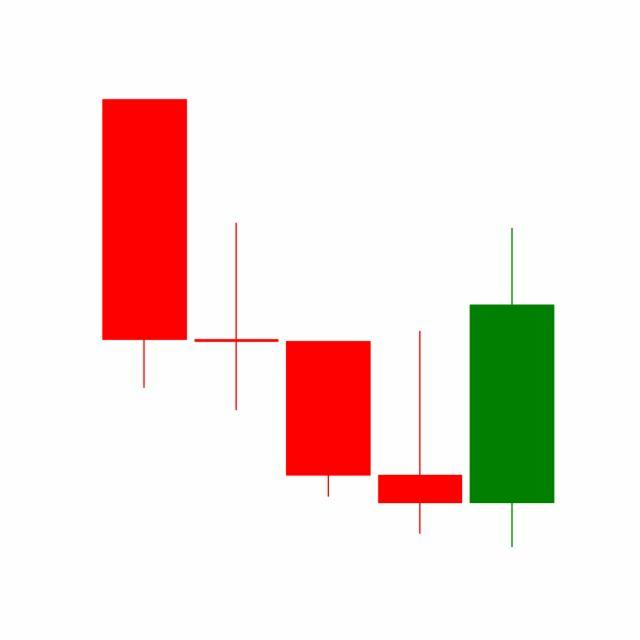Spinning Top: (374, 329, 468, 537)
